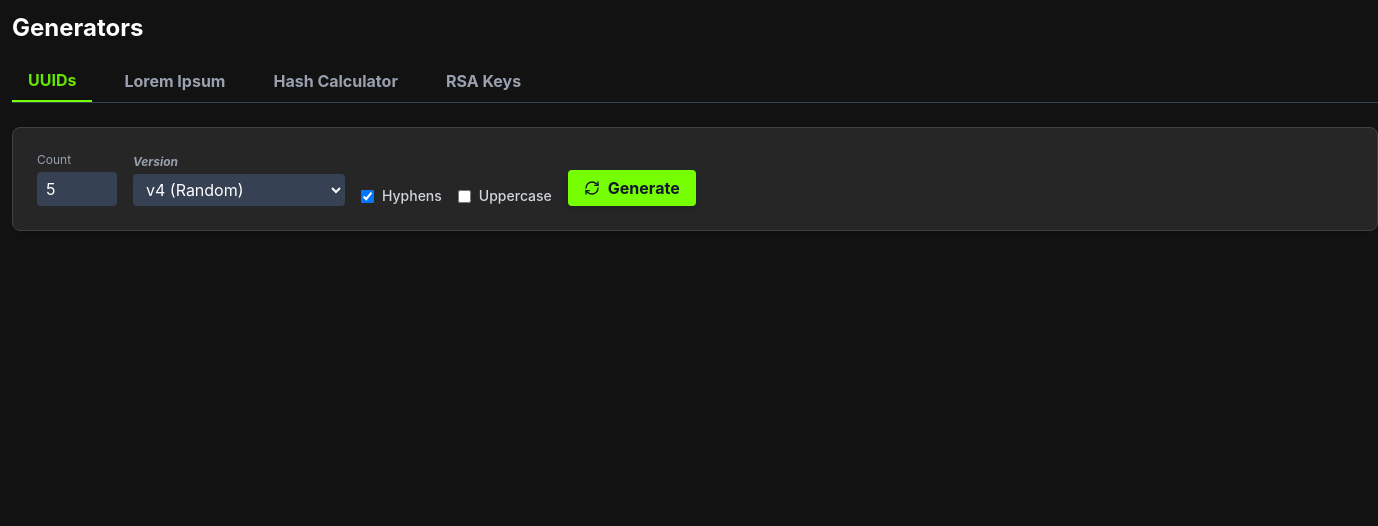
it: GeneratorTool › handles Lorem Ipsum generation
This screenshot has width=1378, height=526.
// Switch to Lorem tab
Step 1. Click the button "Lorem Ipsum" → (175, 85), box x1=108 y1=68 x2=241 y2=102
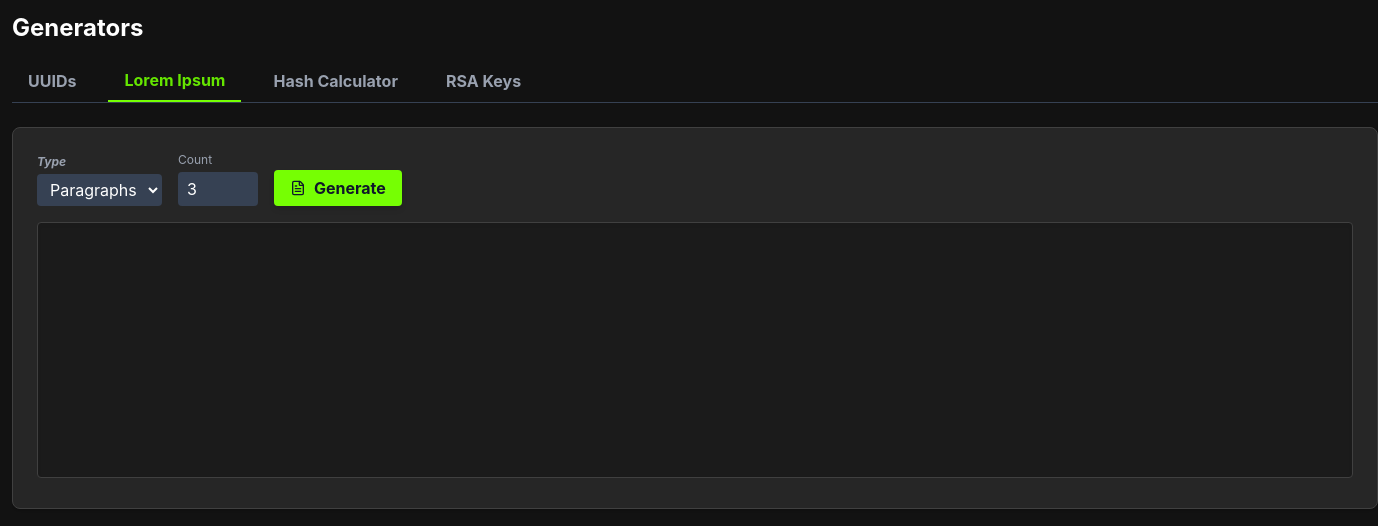
Step 2. Click the button "Generate" → (338, 188), box x1=274 y1=170 x2=402 y2=206
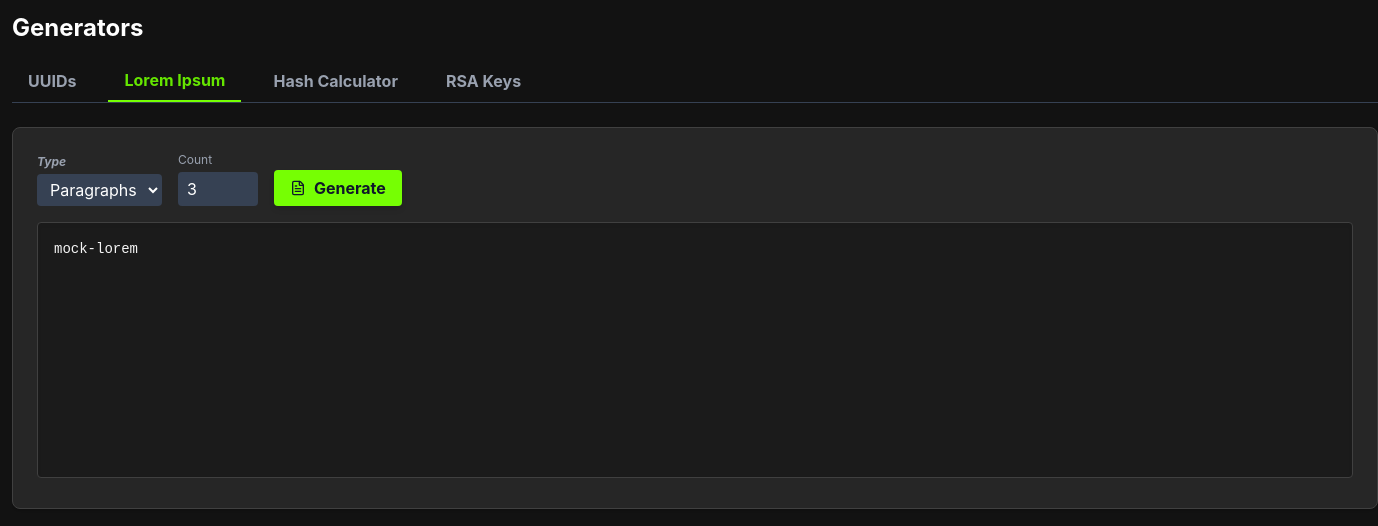
Now the text box showing "mock-lorem" is shown, box x1=37 y1=222 x2=1353 y2=478
